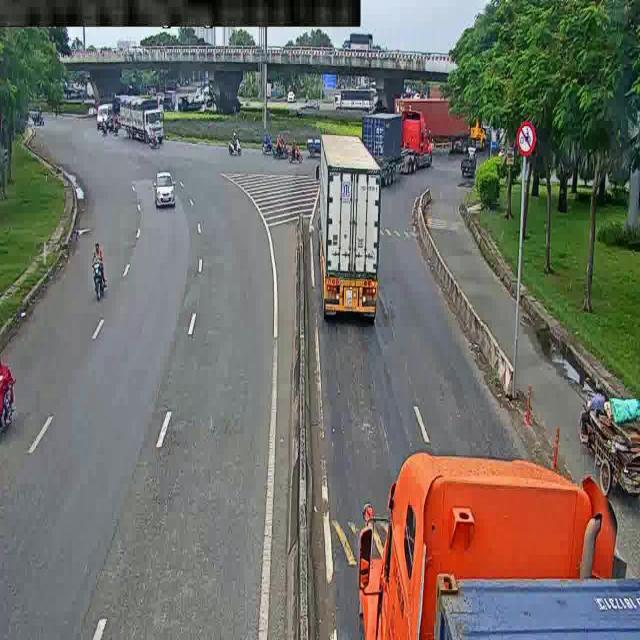bicycle: (556, 367, 640, 504)
car: (479, 142, 516, 216), (151, 166, 180, 206), (92, 104, 117, 124)
motorbike: (84, 244, 117, 321), (458, 141, 484, 190), (271, 132, 304, 165), (23, 109, 59, 130), (227, 131, 246, 160), (260, 130, 277, 146)
truck: (333, 442, 640, 634), (306, 133, 394, 322), (393, 94, 504, 143), (364, 113, 443, 176), (120, 98, 175, 137), (331, 93, 391, 118)
